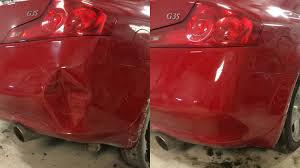rear-bumper-dent: (0, 27, 147, 152)
